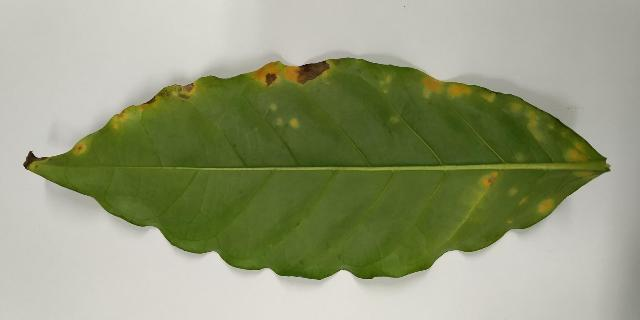miner: (108, 80, 200, 129), (245, 59, 340, 89), (508, 99, 545, 142), (419, 72, 472, 99), (23, 152, 56, 174), (573, 169, 600, 184), (568, 142, 588, 162), (481, 172, 500, 189), (69, 137, 86, 154), (538, 197, 555, 213), (481, 92, 496, 102), (379, 75, 392, 86), (507, 187, 518, 197), (268, 101, 277, 111), (290, 118, 298, 127), (275, 118, 284, 126), (516, 154, 523, 161), (102, 127, 103, 127), (102, 128, 102, 128)
